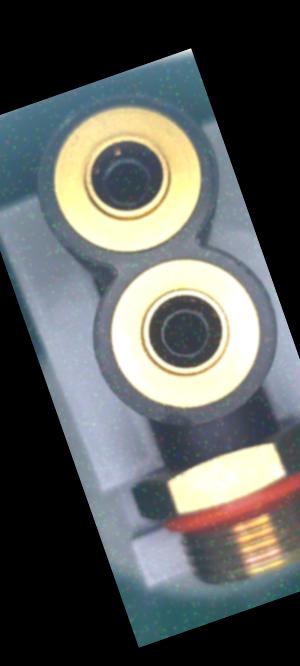bump: (155, 405, 198, 437)
